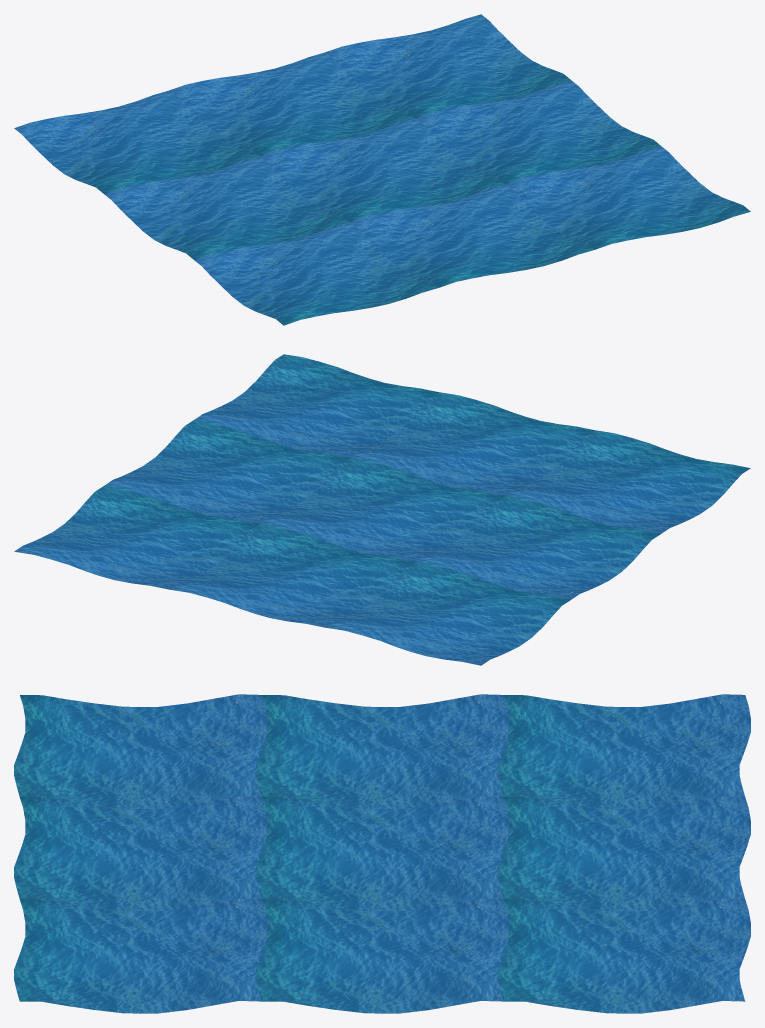
The model's file is ocean_000099.obj.
The picture shows the model from 3 angles, top to bottom: view 1: azimuth 30°, elevation 25°; view 2: azimuth 150°, elevation 25°; view 3: azimuth 270°, elevation 25°; orthographic projection. The views are drawn at different scales.
Visible parts, largest first — view 1: Ocean_Plan.001; view 2: Ocean_Plan.001; view 3: Ocean_Plan.001.
Boxes of the visible parts, x1,y1,x2,y2 form: Ocean_Plan.001: (14,14,750,325); Ocean_Plan.001: (14,354,750,665); Ocean_Plan.001: (14,694,750,1013).
Size of the model in its own units: 109292 by 2409 by 110687.
Materials: 1 (1 with a texture image).
